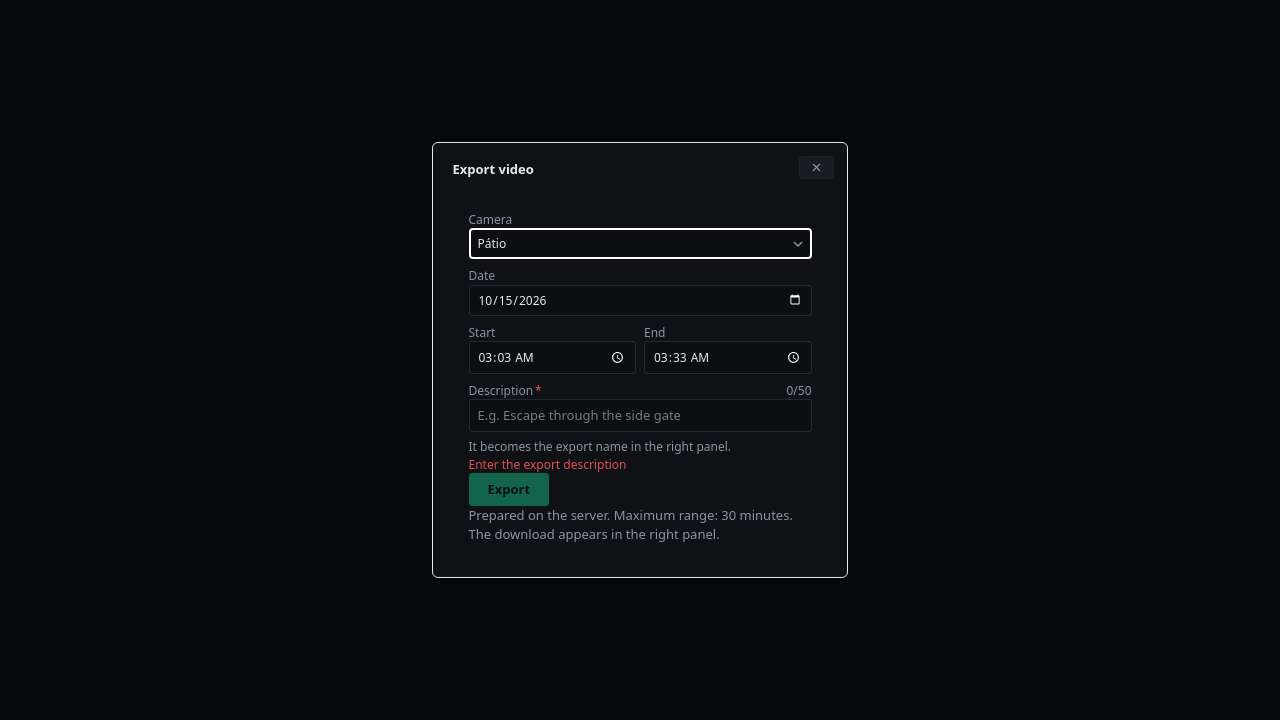
ExportDialog › opens with the default camera of the stage and the submit enabled (default: 30 min ending now)
Expected: the dropdown labelled "Camera" shows "Pátio", [468,228,812,259]
plan 2026-10-23: the description is required. The default period alone does not enable it
In the field labelled "Description": (640, 416) [468,399,812,432], type "Fuga"
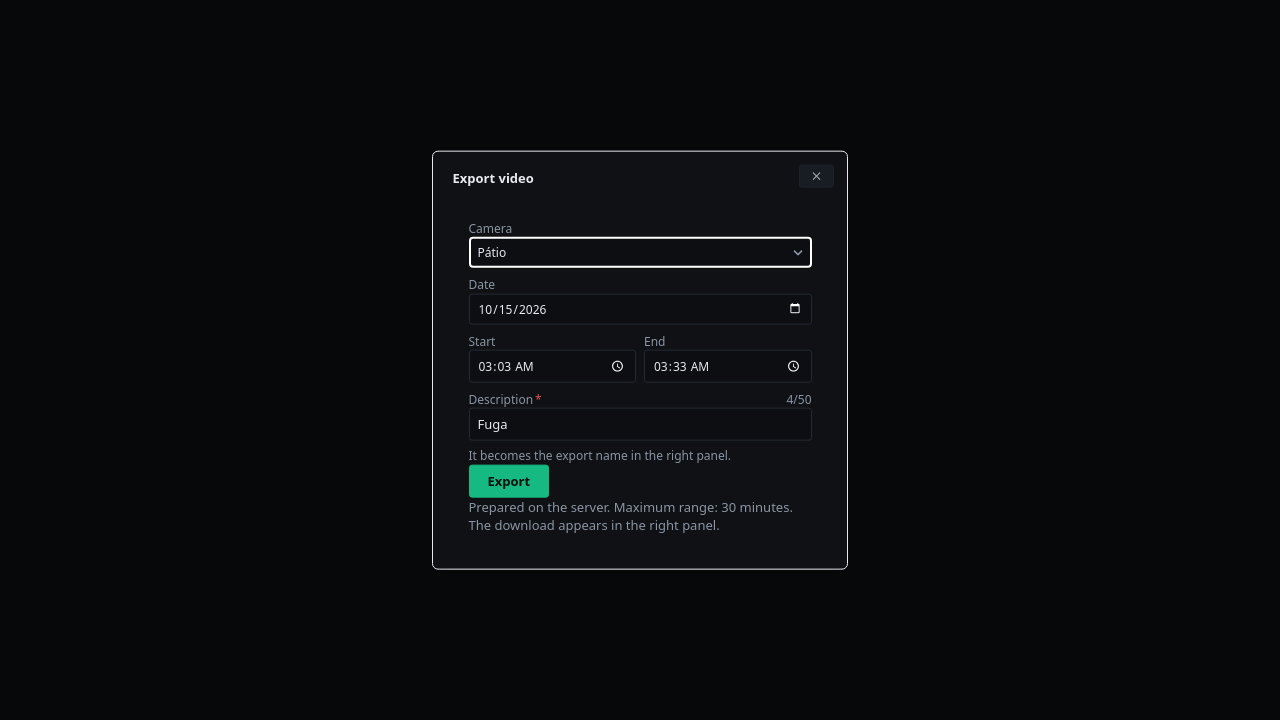
Expected: the text "Maximum range: 30 minutes" is shown, [468,497,793,534]
Now the button "Export" is enabled, box [468,464,549,497]
